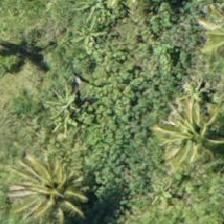coconut_tree: (17, 73, 107, 163), (21, 58, 111, 148), (135, 89, 223, 179), (18, 151, 108, 223)
